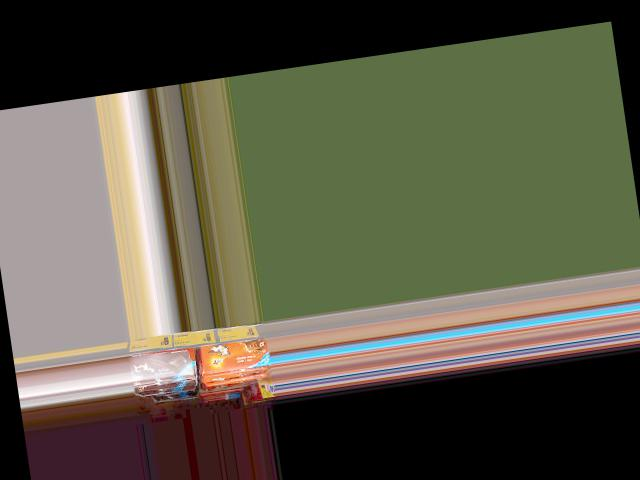chocolate: (126, 341, 192, 387)
